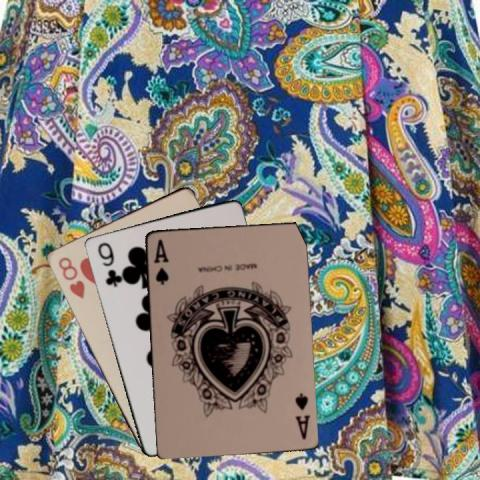8h: (55, 253, 86, 300)
9c: (94, 239, 120, 288)
As: (292, 390, 312, 441), (151, 235, 170, 286)
